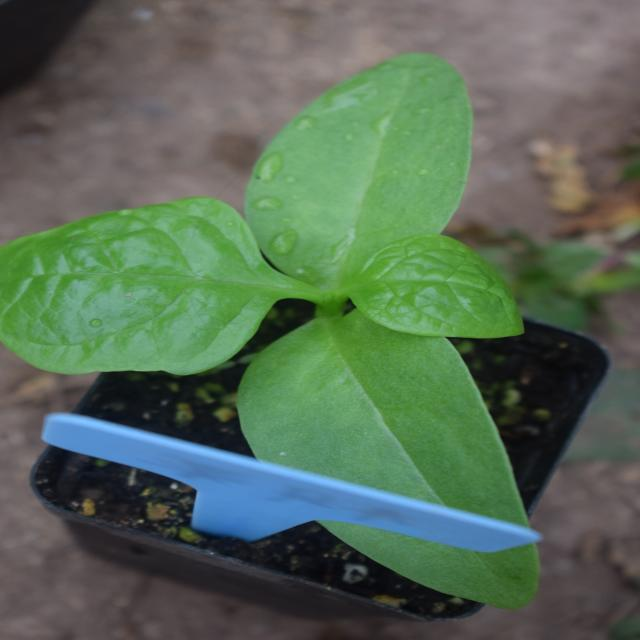Ceylon spinach: (64, 18, 574, 572)
